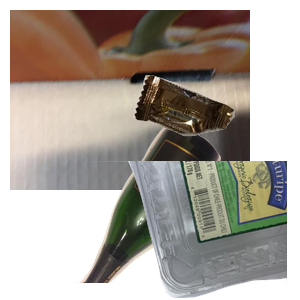cardboard: (10, 10, 250, 190)
glass: (66, 120, 279, 300)
plastic: (60, 161, 300, 300)
trash: (131, 73, 300, 202)
